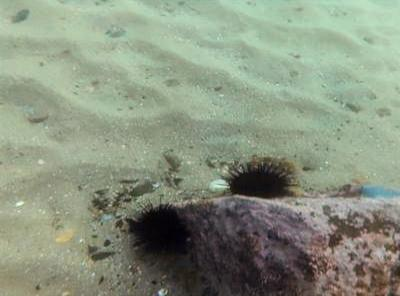urchin: (223, 157, 300, 202), (130, 198, 185, 254)
